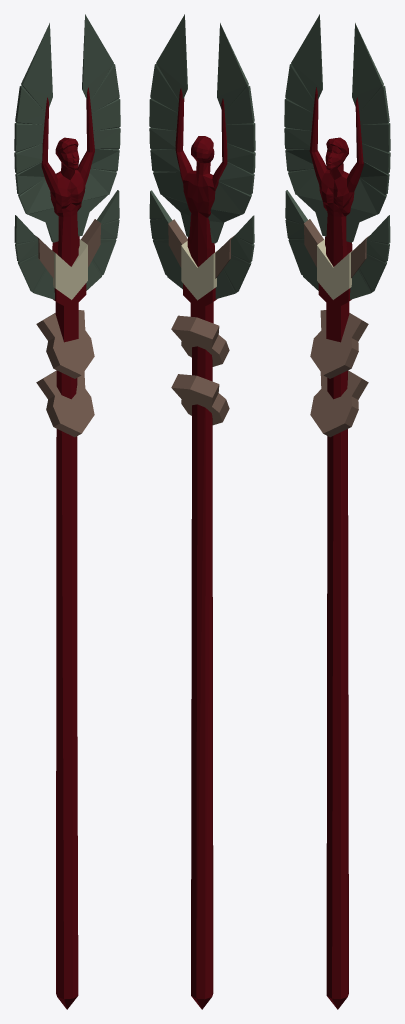
File: cane-20.glb
The picture shows the model from 3 angles, left to right: view 1: azimuth 30°, elevation 25°; view 2: azimuth 150°, elevation 25°; view 3: azimuth 330°, elevation 25°; orthographic projection.
Visible parts, largest first — view 1: cane_20; view 2: cane_20; view 3: cane_20.
Part boxes in pixels (left/top/right/bottom): cane_20: left=14, top=14, right=120, bottom=1009; cane_20: left=149, top=14, right=255, bottom=1009; cane_20: left=284, top=14, right=390, bottom=1009.
Size of the model in its own units: 21.61 by 196 by 9.57.
Materials: 1 (1 with a texture image).
